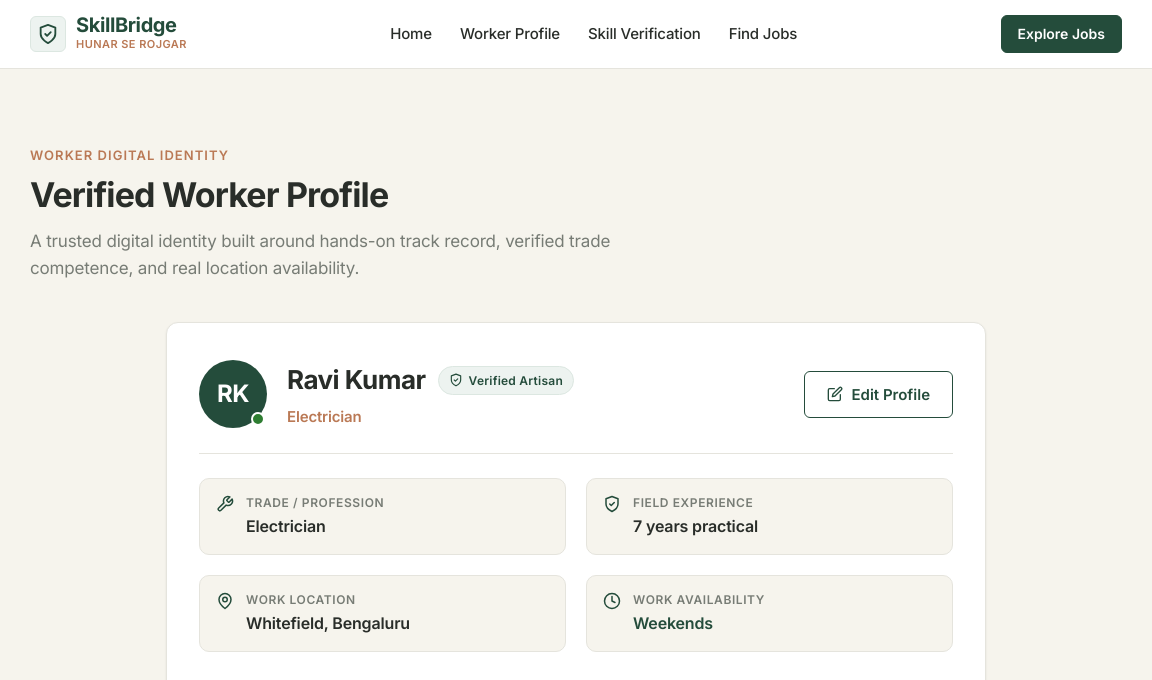
Scenario: SkillBridge Frontend Prototype v0.1 › renders initial Worker Profile and allows editing and saving
(page scrolled)
Expected: the heading "Ravi Kumar" is shown, [287,360,426,401]
Expected: the text "7 years practical" is shown, [633,514,758,540]
Note: Click Edit Profile
Click the button "Edit Profile" at (879, 394), box [804,371,953,418]
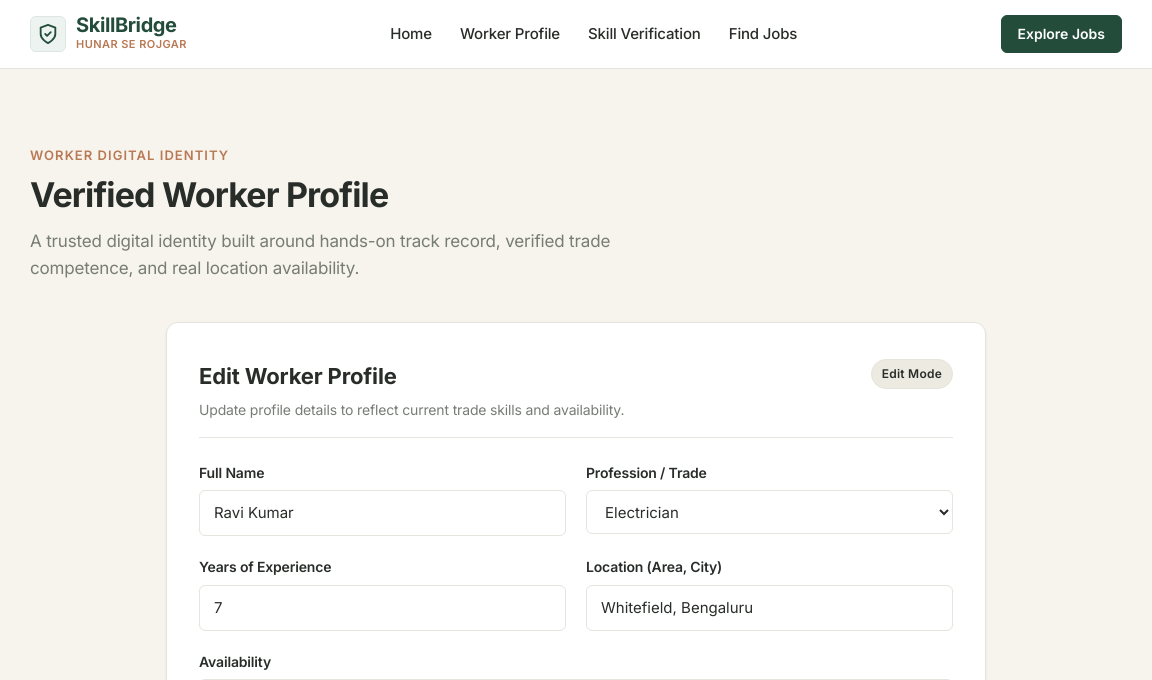
Expected: the field labelled "Full Name" holds "Ravi Kumar"
Expected: the number field labelled "Years of Experience" holds "7", [199,585,566,631]
Note: Update values
Replace the text in the field labelled "Full Name" with "Ravi Kumar Sharma" at (382, 513), box [199,490,566,536]
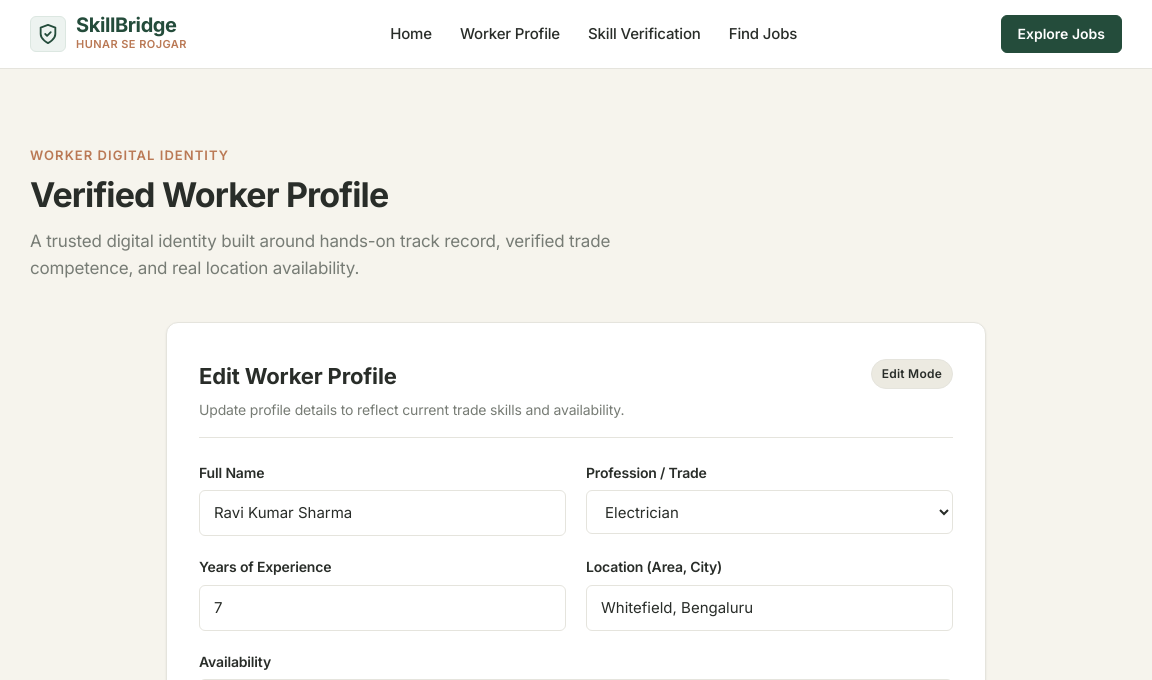
Replace the text in the number field labelled "Years of Experience" with "8" at (382, 608), box [199,585,566,631]
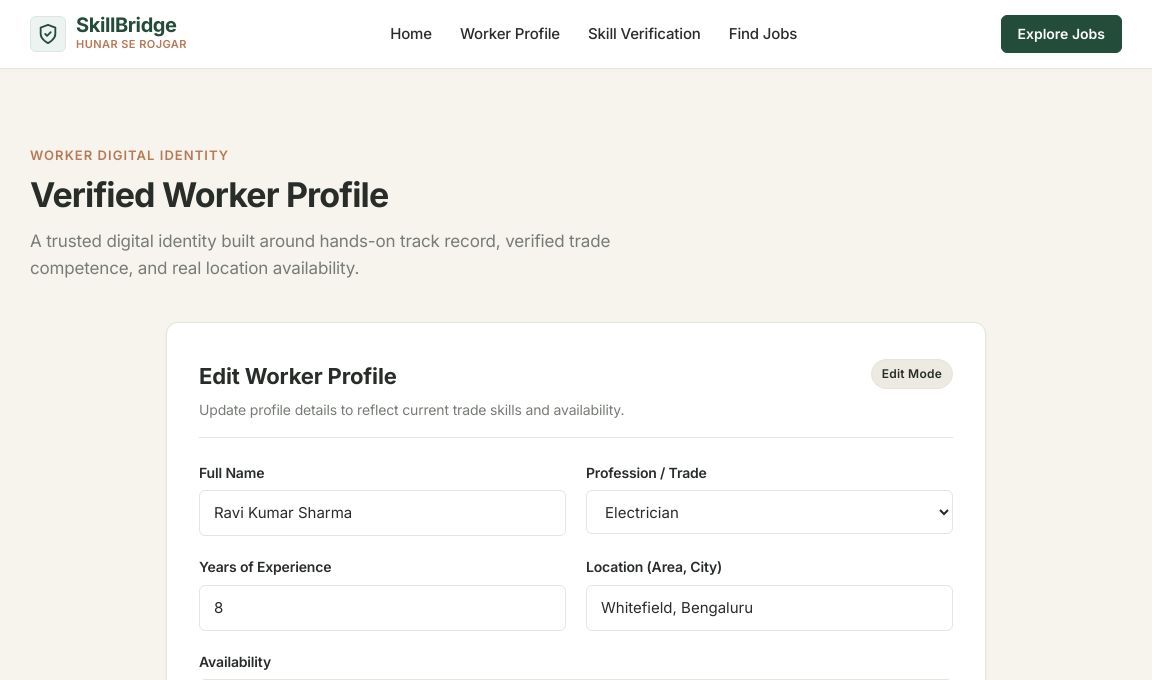
Replace the text in the field labelled "Location (Area, City)" with "Indiranagar, Bengaluru" at (770, 608), box [586,585,953,631]
(page scrolled)
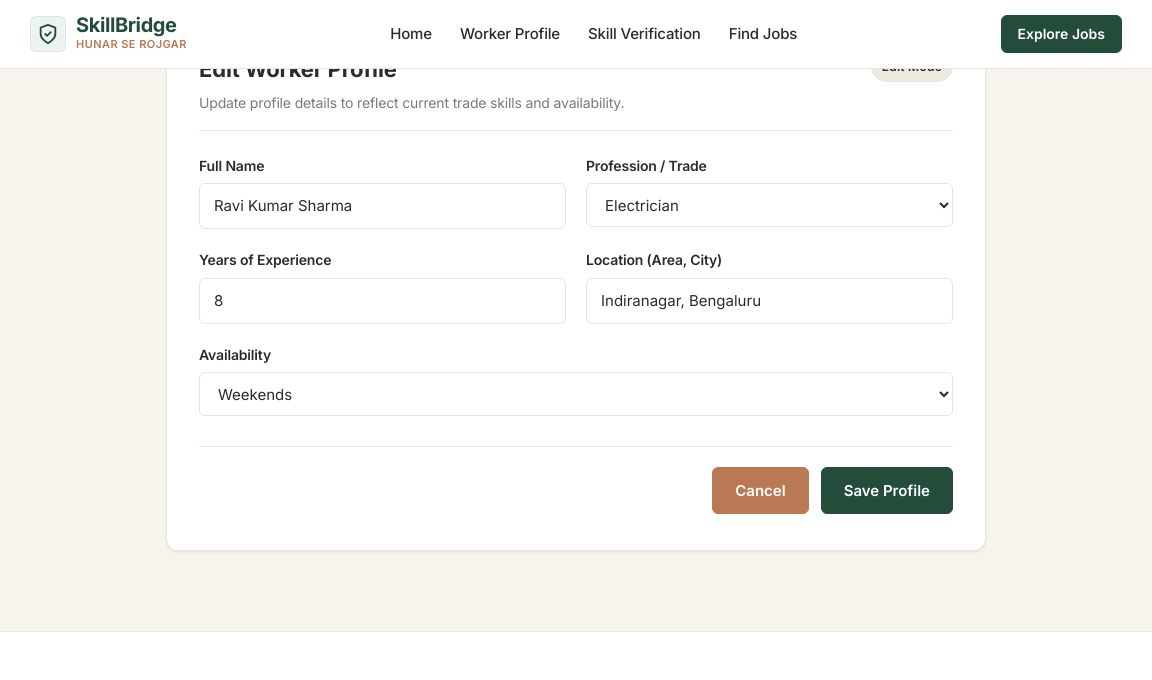
Select "Full-time" in the dropdown labelled "Availability" at (576, 394), box [199,372,953,416]
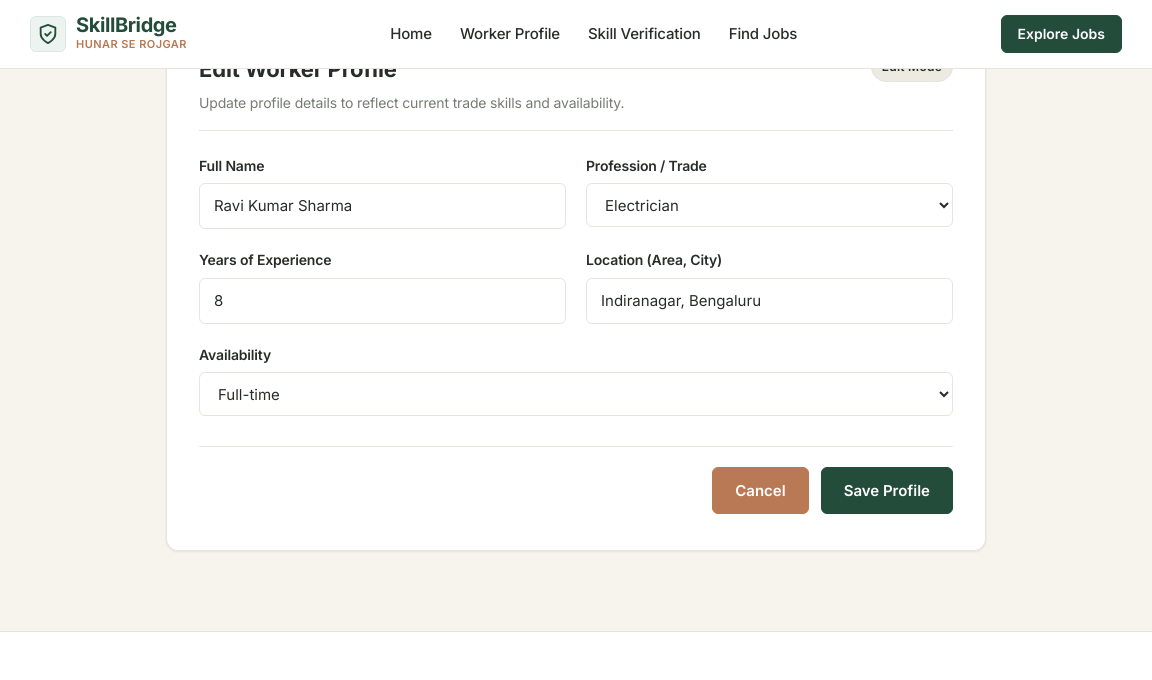
Note: Save profile
Click the button "Save Profile" at (887, 491), box [821,467,953,514]
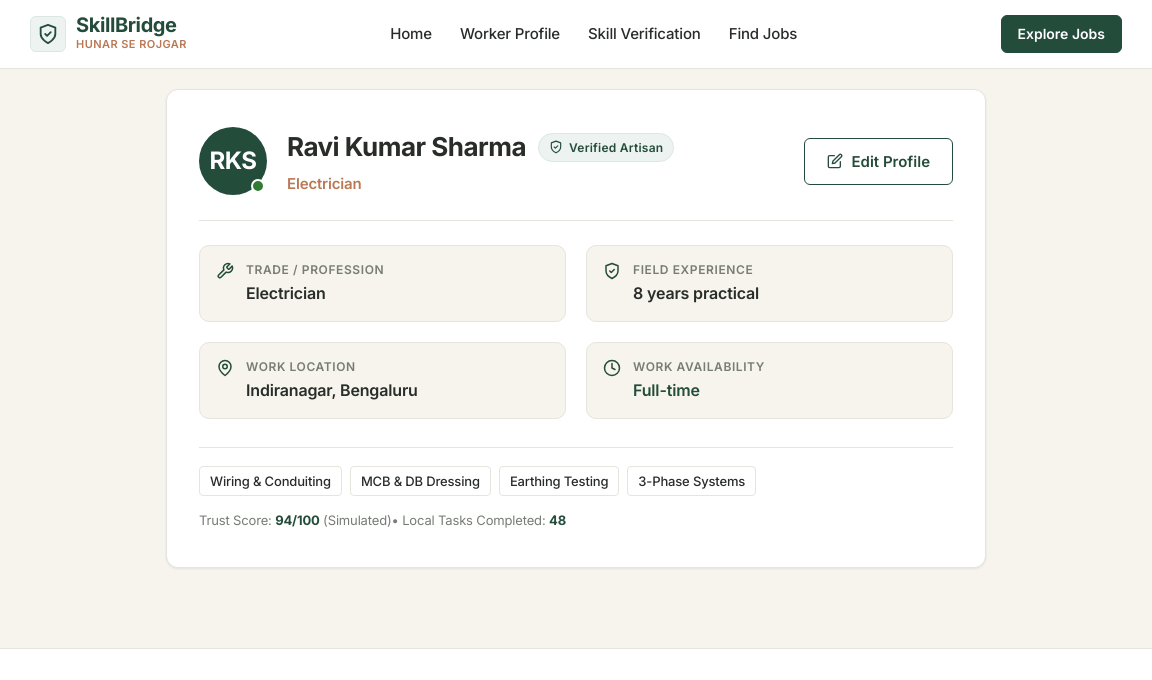
Expected: the heading "Ravi Kumar Sharma" is shown, [287,126,526,168]
Expected: the text "8 years practical" is shown, [633,281,759,307]
Expected: the text "Indiranagar, Bengaluru" is shown, [246,378,418,404]
